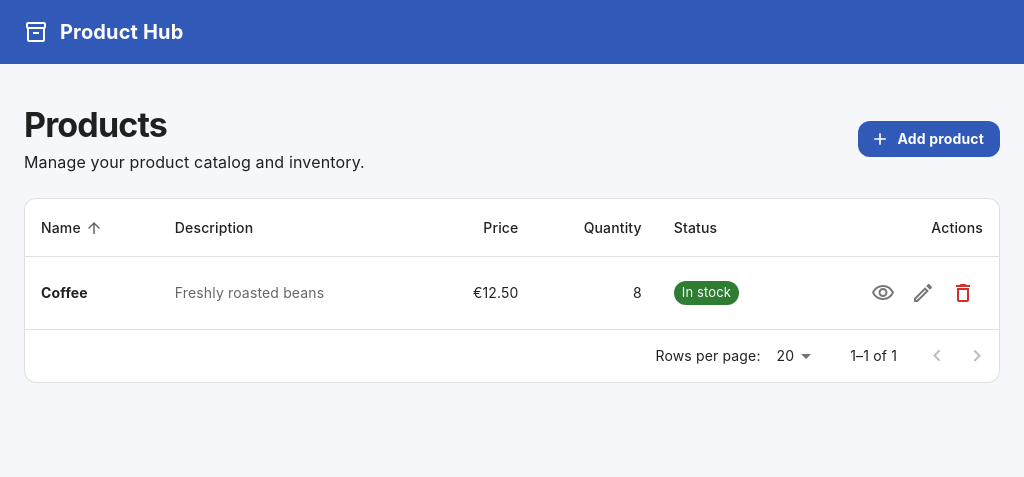
product queries › preserves cached products when a sorted request loses the connection
This screenshot has width=1024, height=477.
Expected: the text "Coffee" is shown, [25,257,159,330]
Click the button "Price": (501, 228) [483,219,518,236]
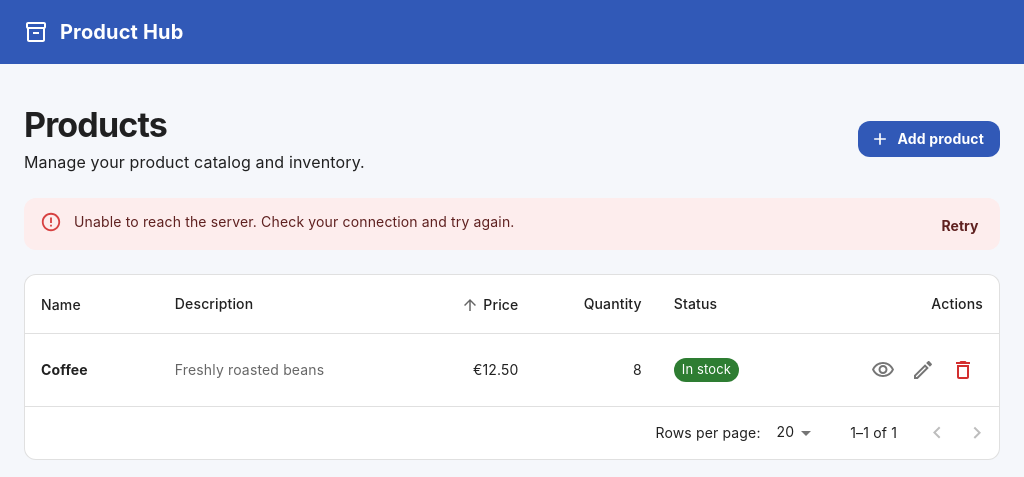
Expected: the text "Coffee" is shown, [25,333,159,406]
Now the text "Unable to reach the server" is shown, box [74,213,514,230]
